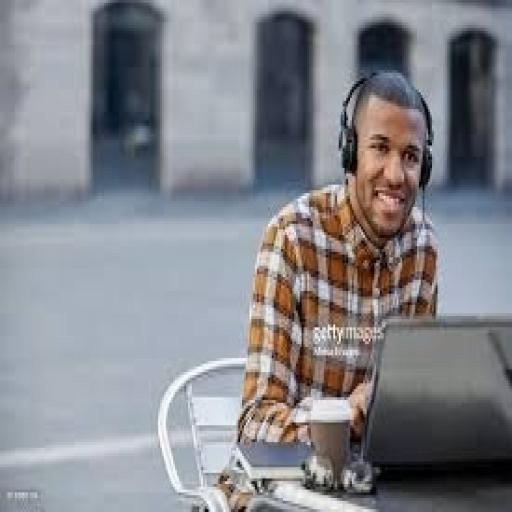listening_to_music: (207, 67, 441, 509)
